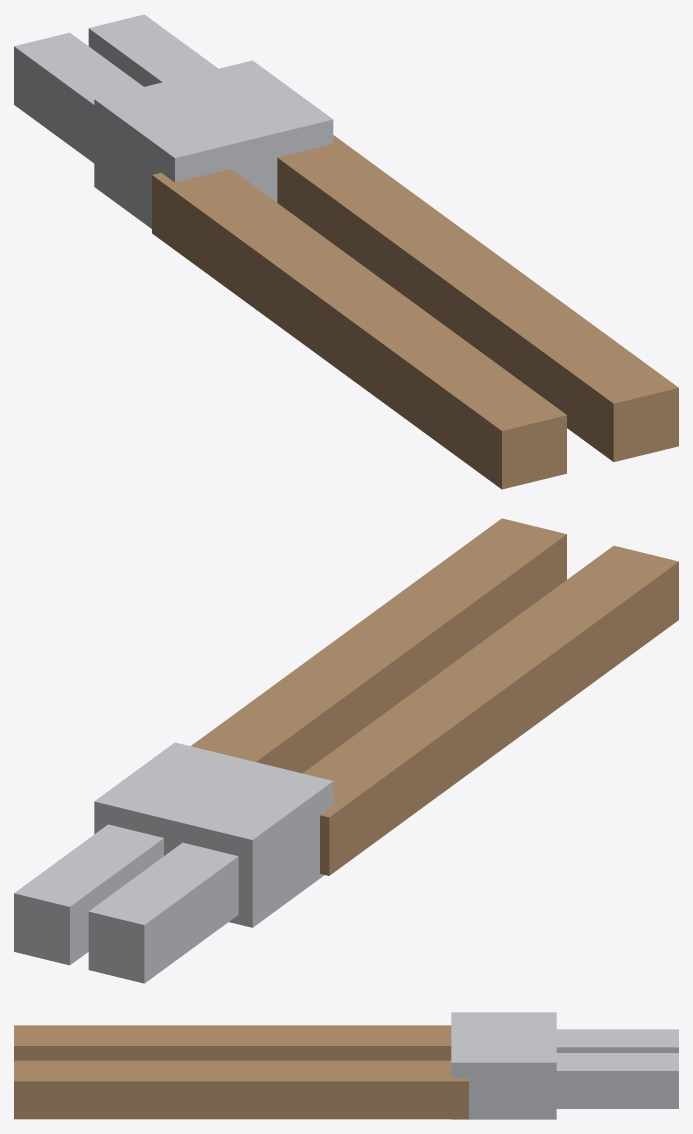
File: prop-saw-set-pliers-ss2.fbx
3 views of the same model, one above another, from view 1: azimuth 30°, elevation 25°; view 2: azimuth 150°, elevation 25°; view 3: azimuth 270°, elevation 25° (orthographic). The views are drawn at different scales.
Parts seen in each view (by area): view 1: prop-saw-set-pliers-ss2; view 2: prop-saw-set-pliers-ss2; view 3: prop-saw-set-pliers-ss2.
Part boxes in pixels (x1,y1,x2,y2): prop-saw-set-pliers-ss2: (14, 14, 678, 489); prop-saw-set-pliers-ss2: (14, 518, 678, 983); prop-saw-set-pliers-ss2: (14, 1012, 678, 1119).
Size of the model in its own units: 3.8 by 1.8 by 19.
